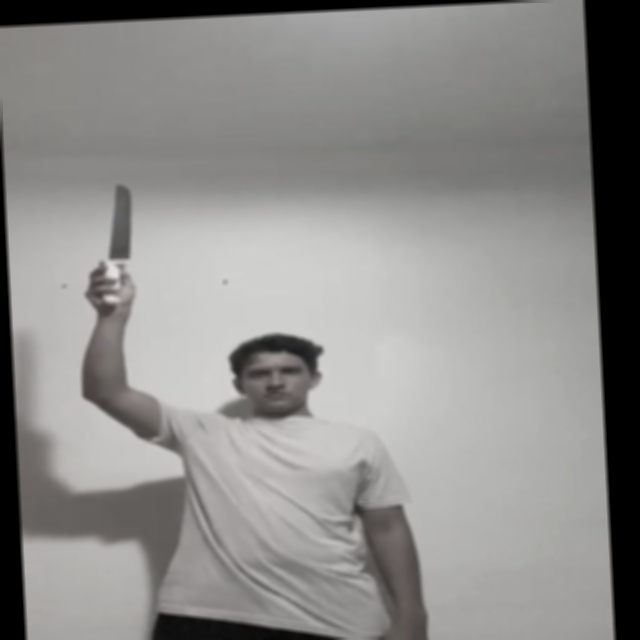Sharp-Object: (105, 183, 137, 264)
